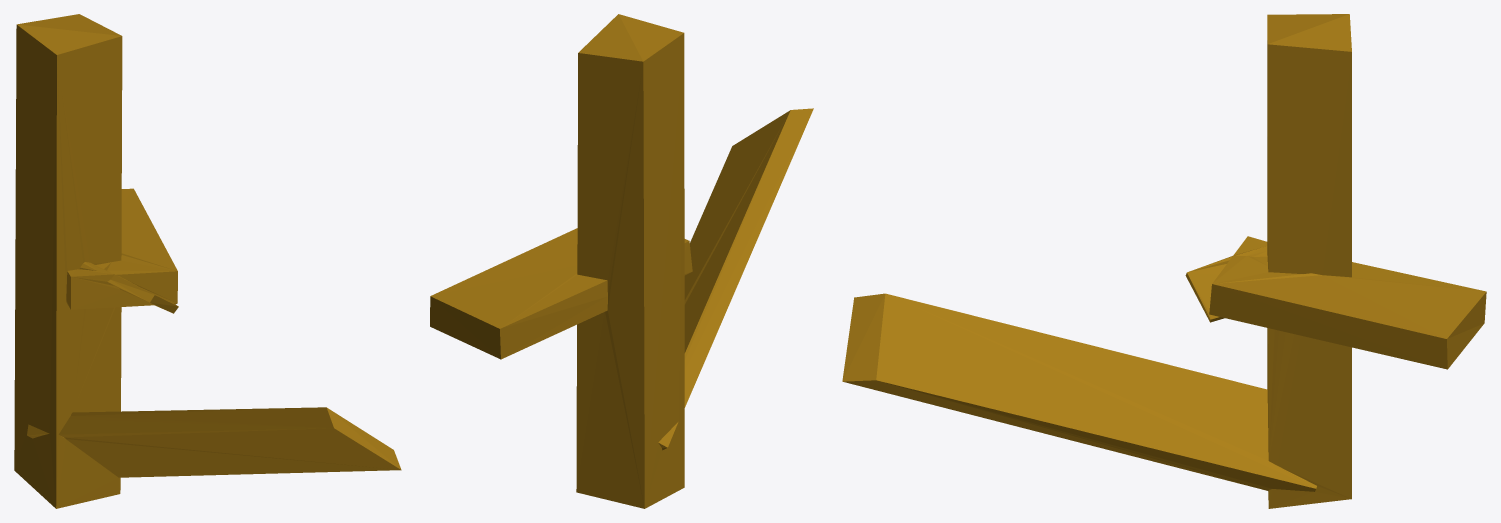
3 views of the same model, side by side, from view 1: azimuth 30°, elevation 25°; view 2: azimuth 150°, elevation 25°; view 3: azimuth 270°, elevation 25° (orthographic).
Parts seen in each view (by area): view 1: 075_Cube.307; view 2: 075_Cube.307; view 3: 075_Cube.307.
Part boxes in pixels (<box>): 075_Cube.307: <box>14,14,401,508</box>; 075_Cube.307: <box>430,14,813,508</box>; 075_Cube.307: <box>842,14,1486,508</box>.
Bounding box in the file's own units: 4.81 × 12.23 × 15.34.
